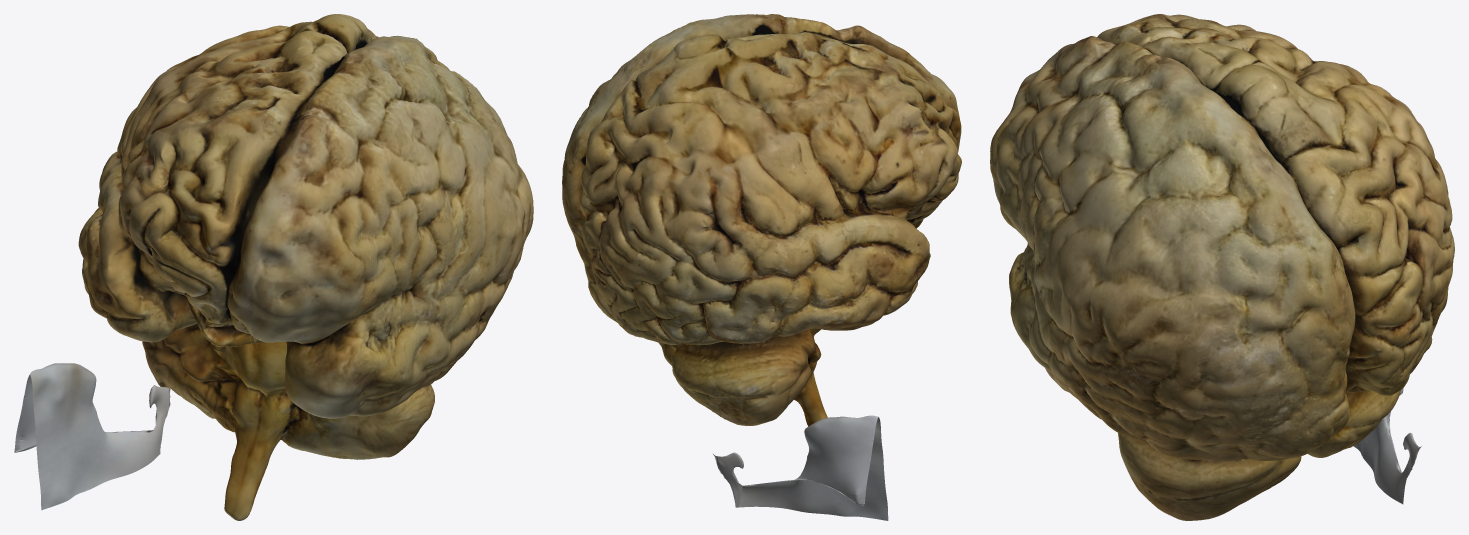
The model's file is 3DModel.glb.
3 views of the same model, side by side, from view 1: azimuth 30°, elevation 25°; view 2: azimuth 150°, elevation 25°; view 3: azimuth 270°, elevation 25° (orthographic). The views are drawn at different scales.
Parts seen in each view (by area): view 1: 3DModel; view 2: 3DModel; view 3: 3DModel.
Part boxes in pixels (left/top/right/bottom): 3DModel: left=14, top=14, right=533, bottom=520; 3DModel: left=562, top=14, right=961, bottom=520; 3DModel: left=990, top=14, right=1454, bottom=520.
Size of the model in its own units: 0.8168 by 0.8913 by 0.7678.
Materials: 1 (1 with a texture image).
